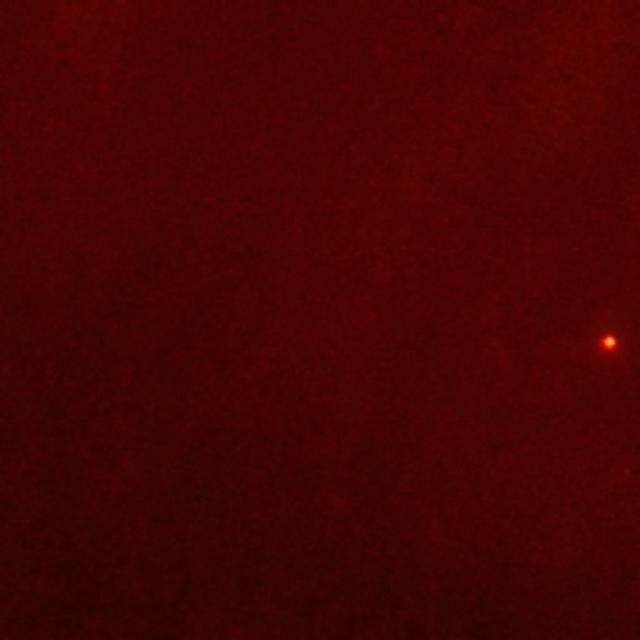Fragment: (603, 336, 615, 350)
